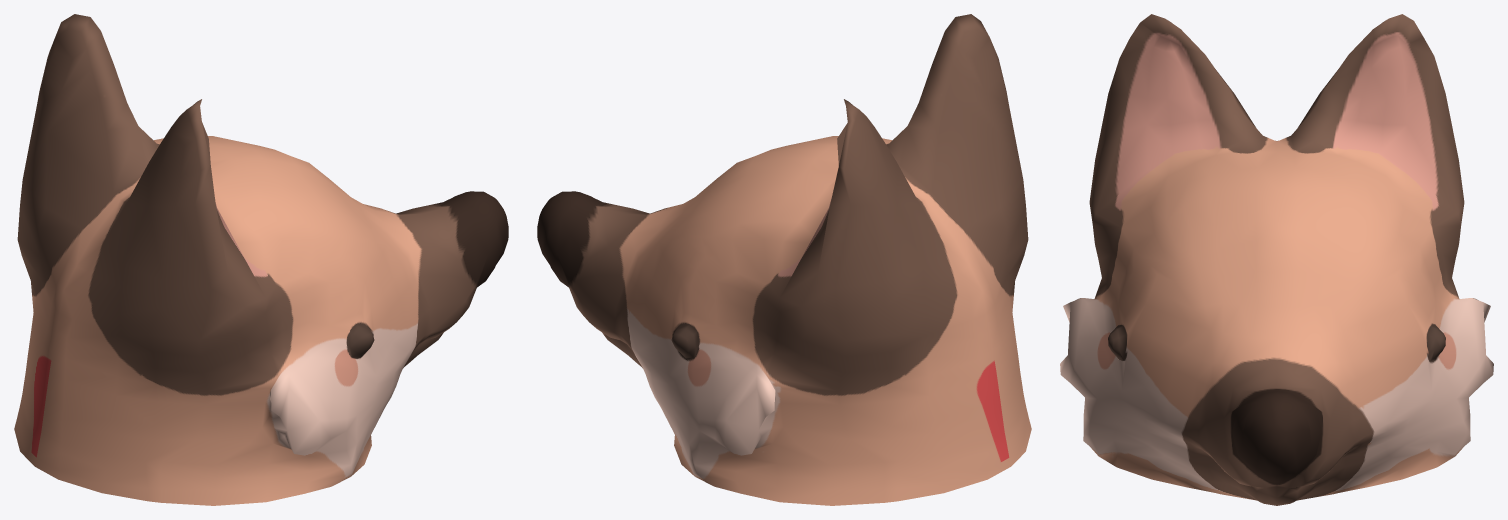
The model's file is head.obj.
The picture shows the model from 3 angles, left to right: view 1: azimuth 30°, elevation 25°; view 2: azimuth 150°, elevation 25°; view 3: azimuth 270°, elevation 25°; orthographic projection.
Visible parts, largest first — view 1: Fox_Final_Low; view 2: Fox_Final_Low; view 3: Fox_Final_Low.
Part boxes in pixels (x1=…): Fox_Final_Low: x1=14, y1=14, x2=508, y2=505; Fox_Final_Low: x1=537, y1=14, x2=1031, y2=505; Fox_Final_Low: x1=1060, y1=14, x2=1493, y2=505.
Bounding box in the file's own units: 3.44 × 2.67 × 2.75.
